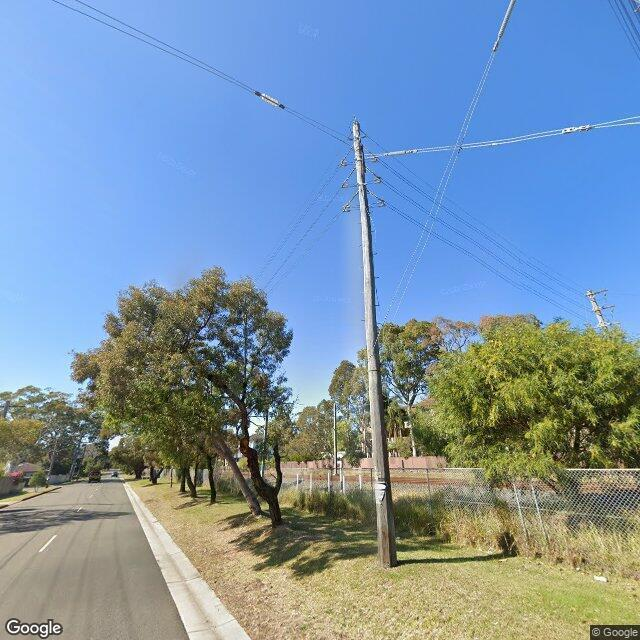HV-transmission: (340, 115, 385, 212), (588, 287, 621, 327)
timber-pole: (353, 120, 398, 568), (587, 290, 607, 333), (260, 410, 268, 476), (332, 402, 337, 477)
